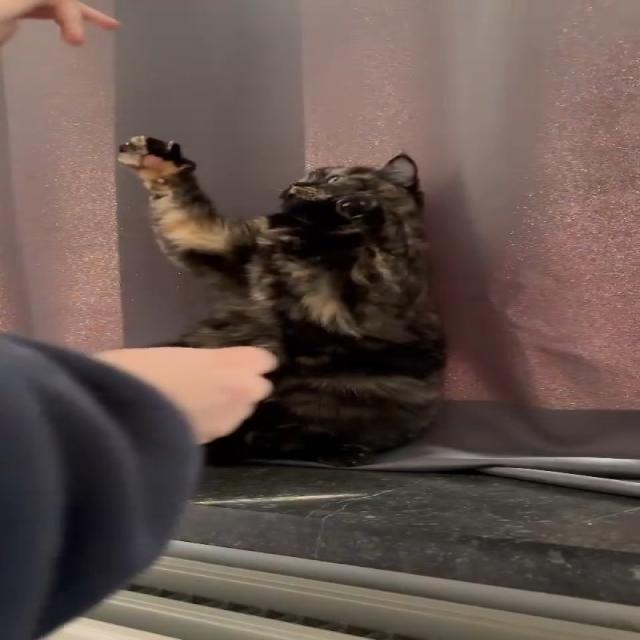authorized: (115, 134, 448, 468)
